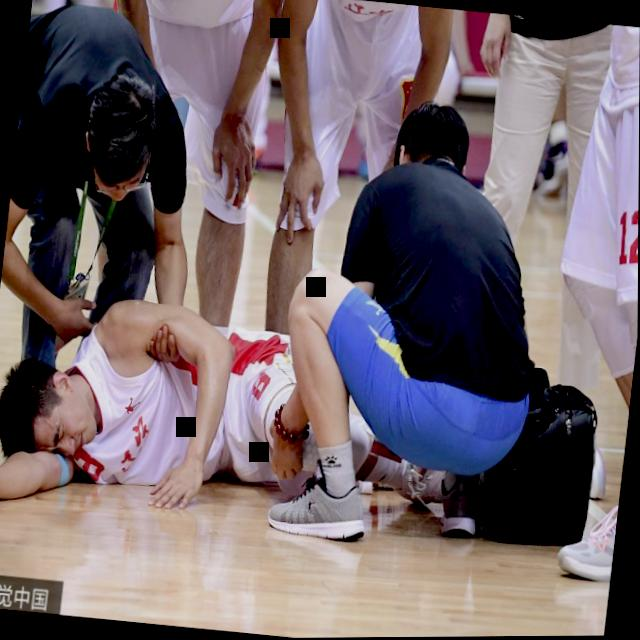Fall-Detected: (0, 263, 483, 551)
